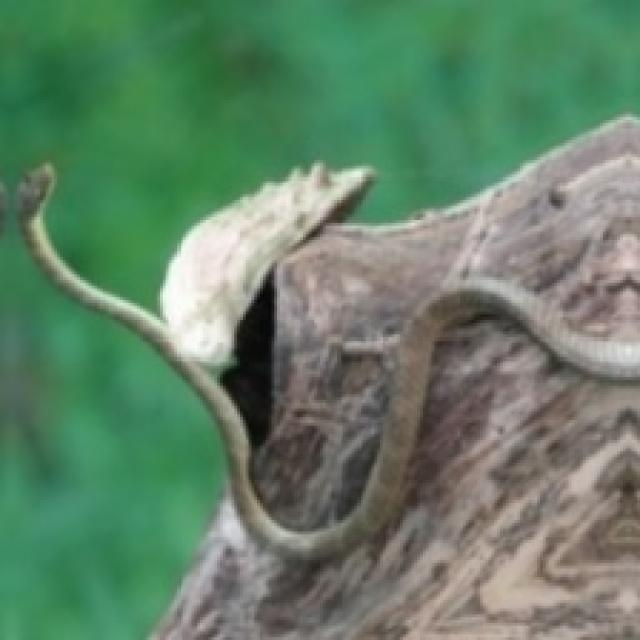paradise tree snake: (23, 117, 637, 637)
